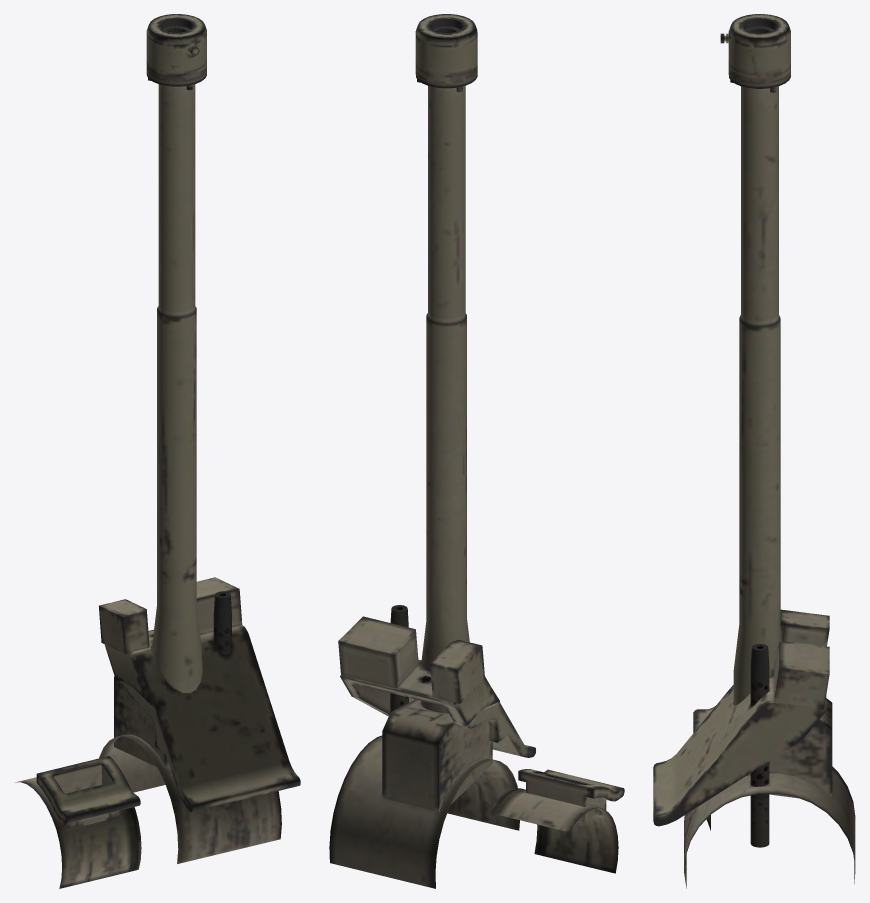
Rendered from Gun_01.glb.
3 renders of one model, left to right at view 1: azimuth 30°, elevation 25°; view 2: azimuth 150°, elevation 25°; view 3: azimuth 270°, elevation 25°, orthographic. The views are drawn at different scales.
Visible parts, largest first — view 1: set_0_group_0; view 2: set_0_group_0; view 3: set_0_group_0.
Boxes of the visible parts, x1,y1,x2,y2 form: set_0_group_0: [15, 14, 300, 888]; set_0_group_0: [329, 14, 624, 888]; set_0_group_0: [653, 14, 855, 888].
Bounding box in the file's own units: 0.6514 × 2.36 × 0.5173.
Materials: 1 (1 with a texture image).
